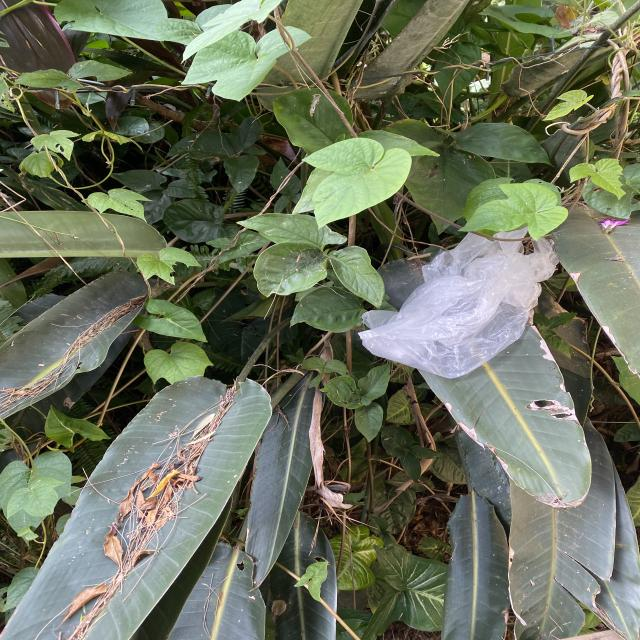cloth: (353, 230, 570, 381), (556, 221, 574, 233)
